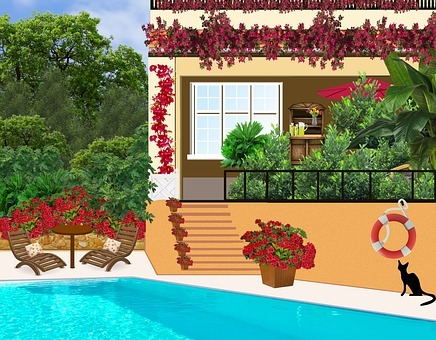cat: (389, 258, 434, 306)
chair: (77, 218, 139, 274), (4, 226, 69, 275)
pottedplant: (235, 213, 318, 288)
